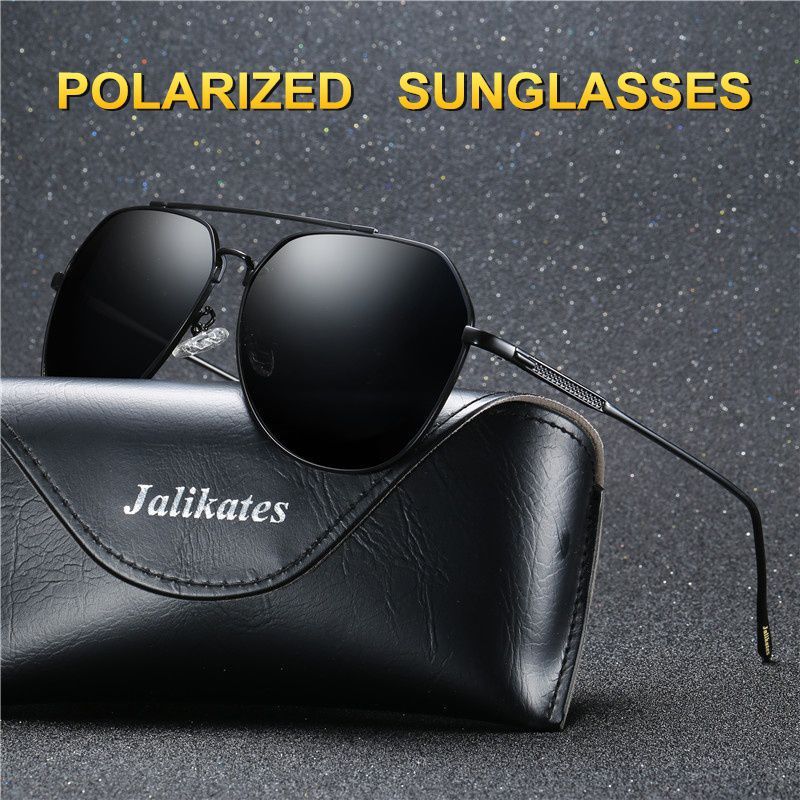sunglasses: (41, 176, 757, 618)
